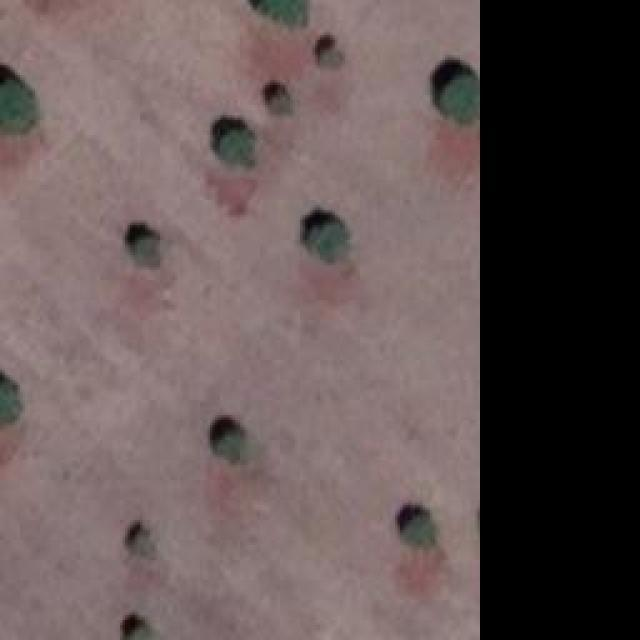Tree: (435, 70, 478, 118), (215, 120, 258, 165), (0, 80, 30, 130), (313, 218, 346, 261), (207, 425, 245, 460), (255, 0, 305, 25), (405, 515, 440, 548), (128, 235, 161, 265), (125, 525, 153, 560), (262, 87, 290, 115), (315, 42, 343, 70), (0, 383, 20, 418), (130, 625, 152, 640)
